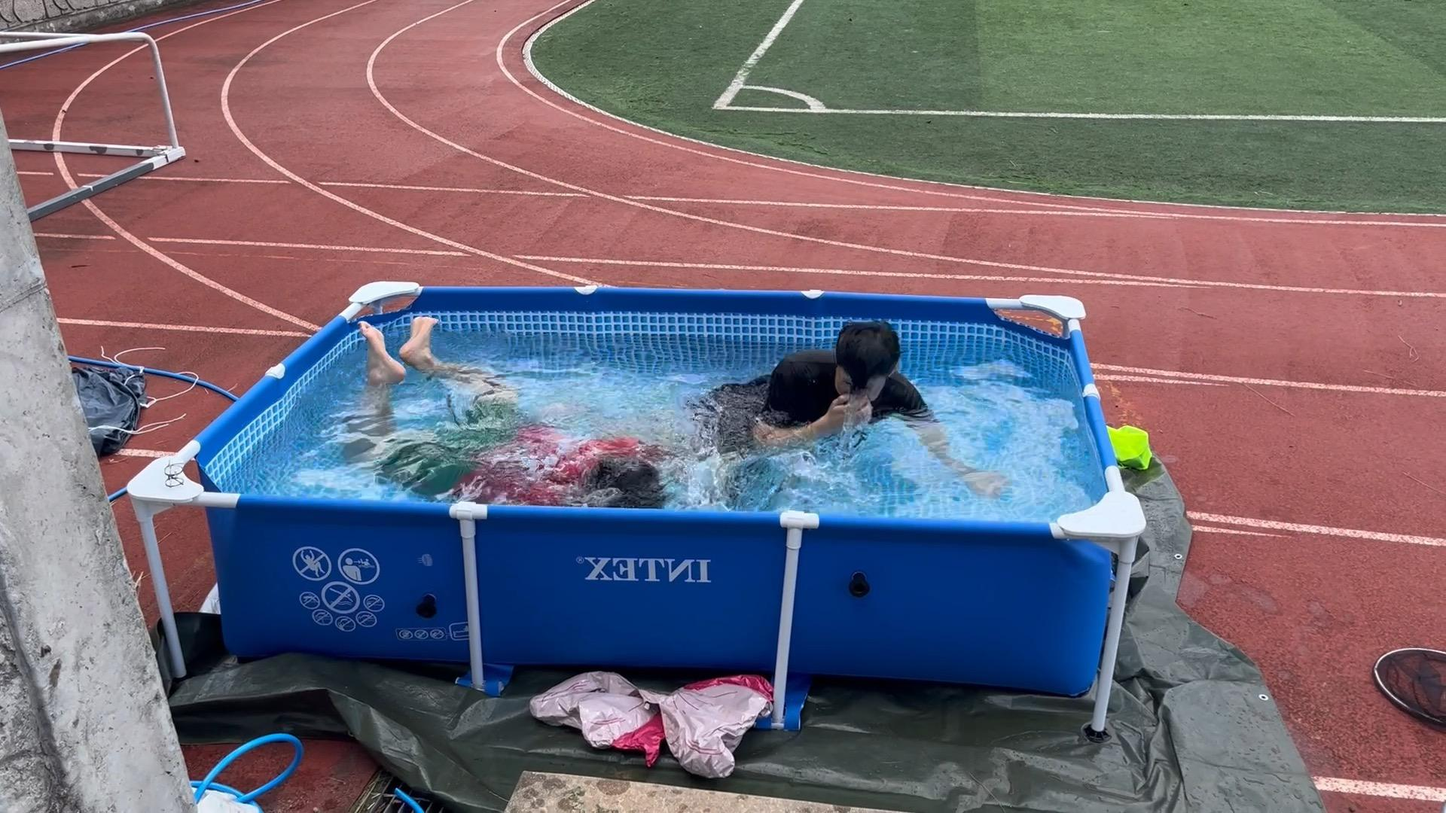Drowning: (358, 306, 678, 535), (696, 312, 995, 517)
